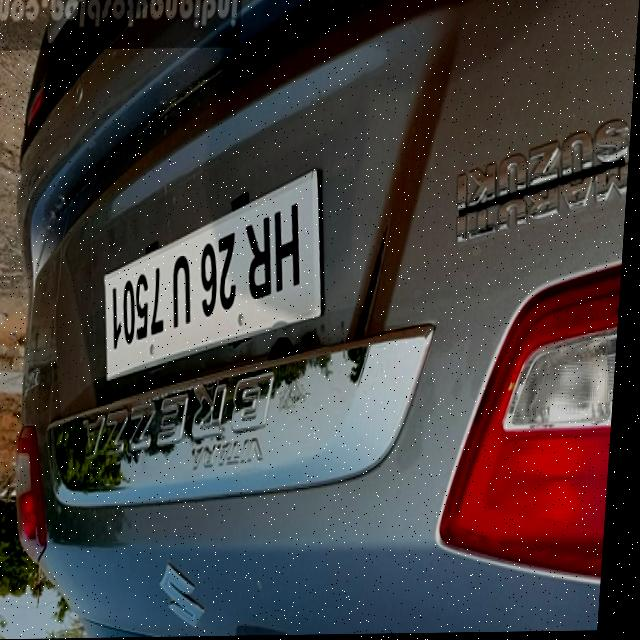plate: (99, 152, 337, 383)
